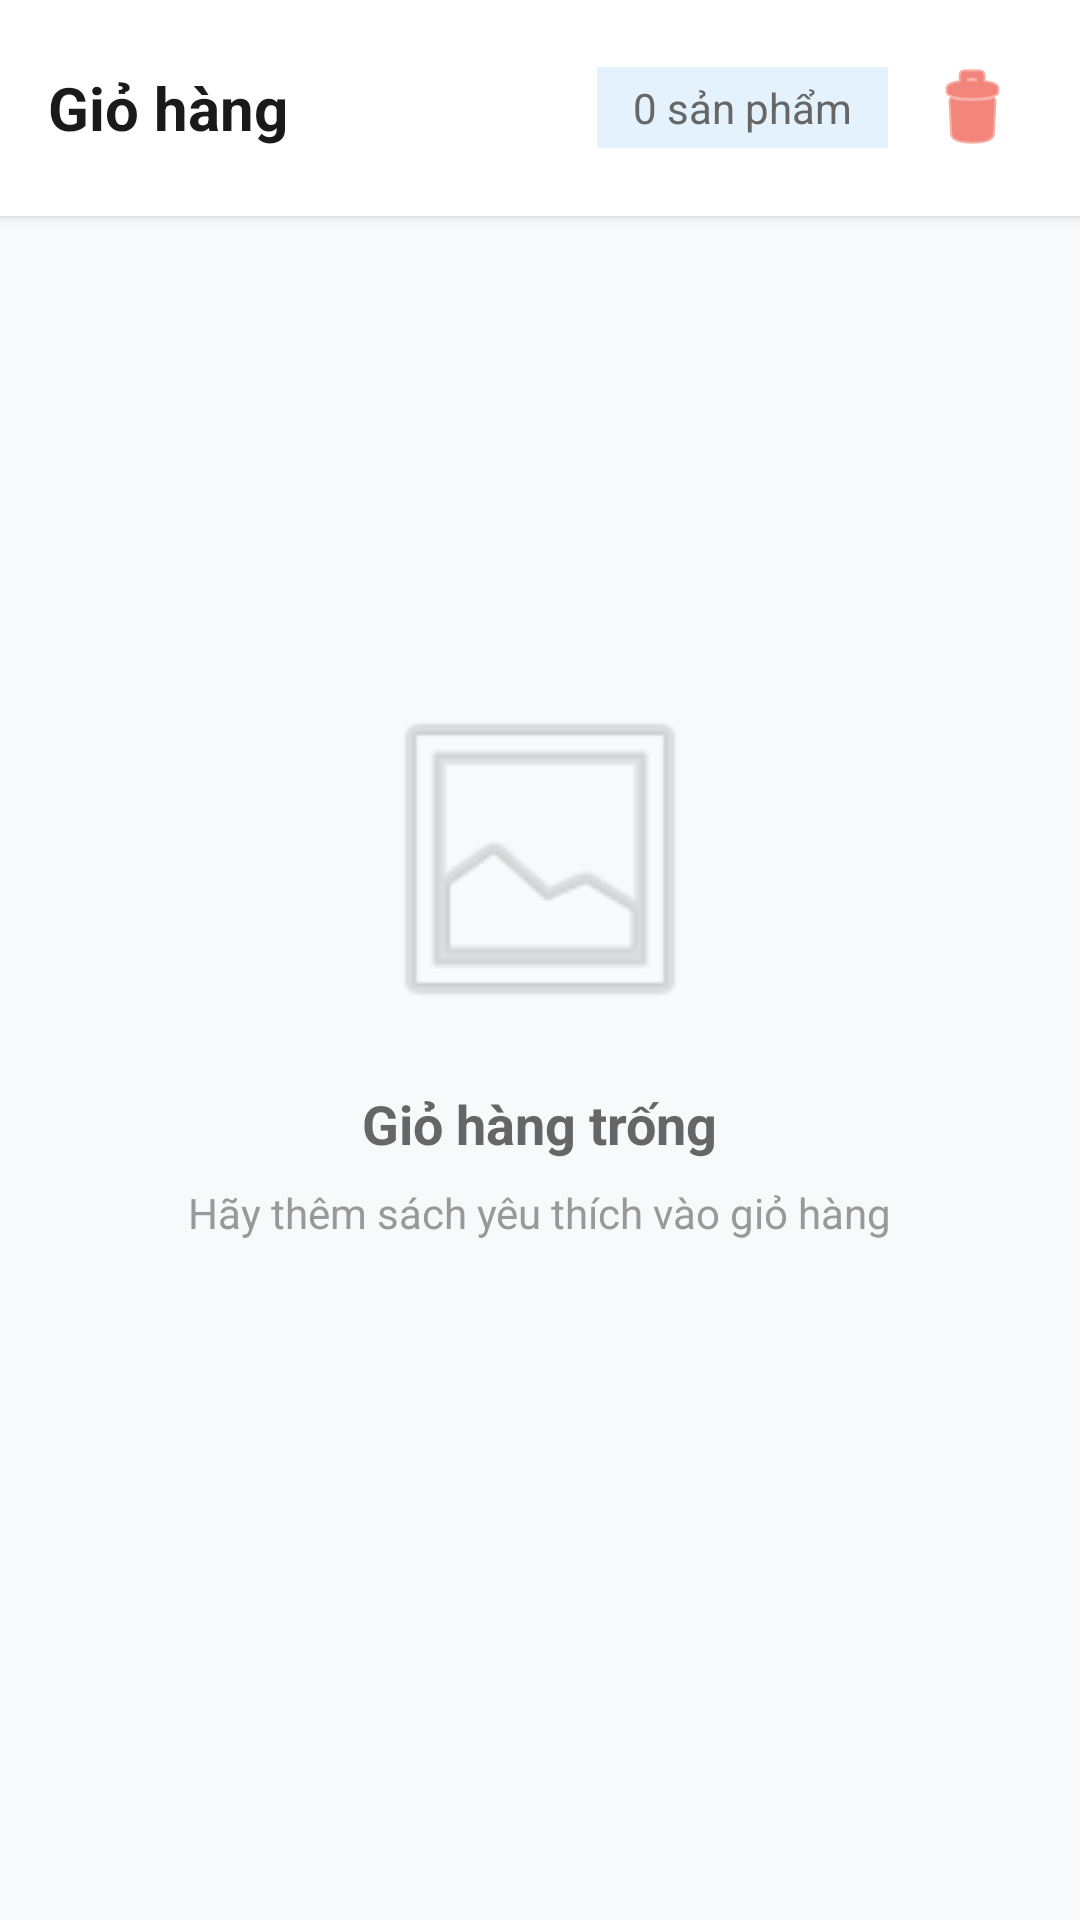

Icon bounding boxes for this 1080×1920 phone screenshot, format box=[x1, y1, x2, y2]:
gallery: box=[406, 725, 674, 993]
Xóa tất cả: box=[945, 69, 1000, 144]
